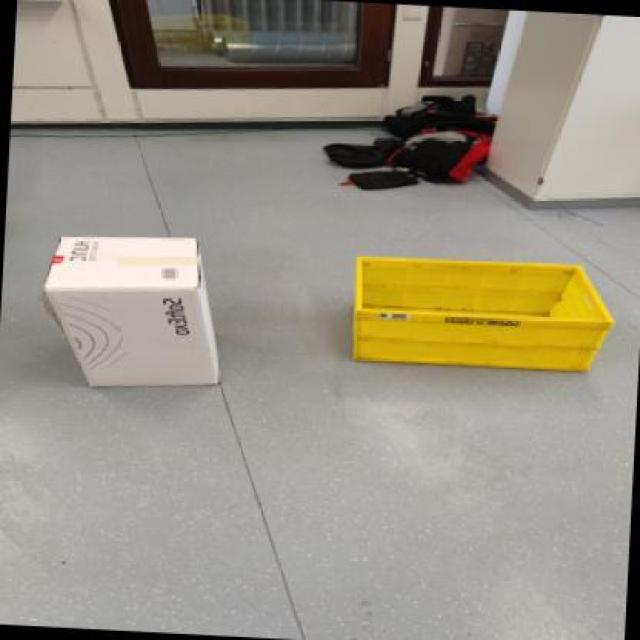box: (328, 228, 632, 401), (11, 211, 258, 415)
